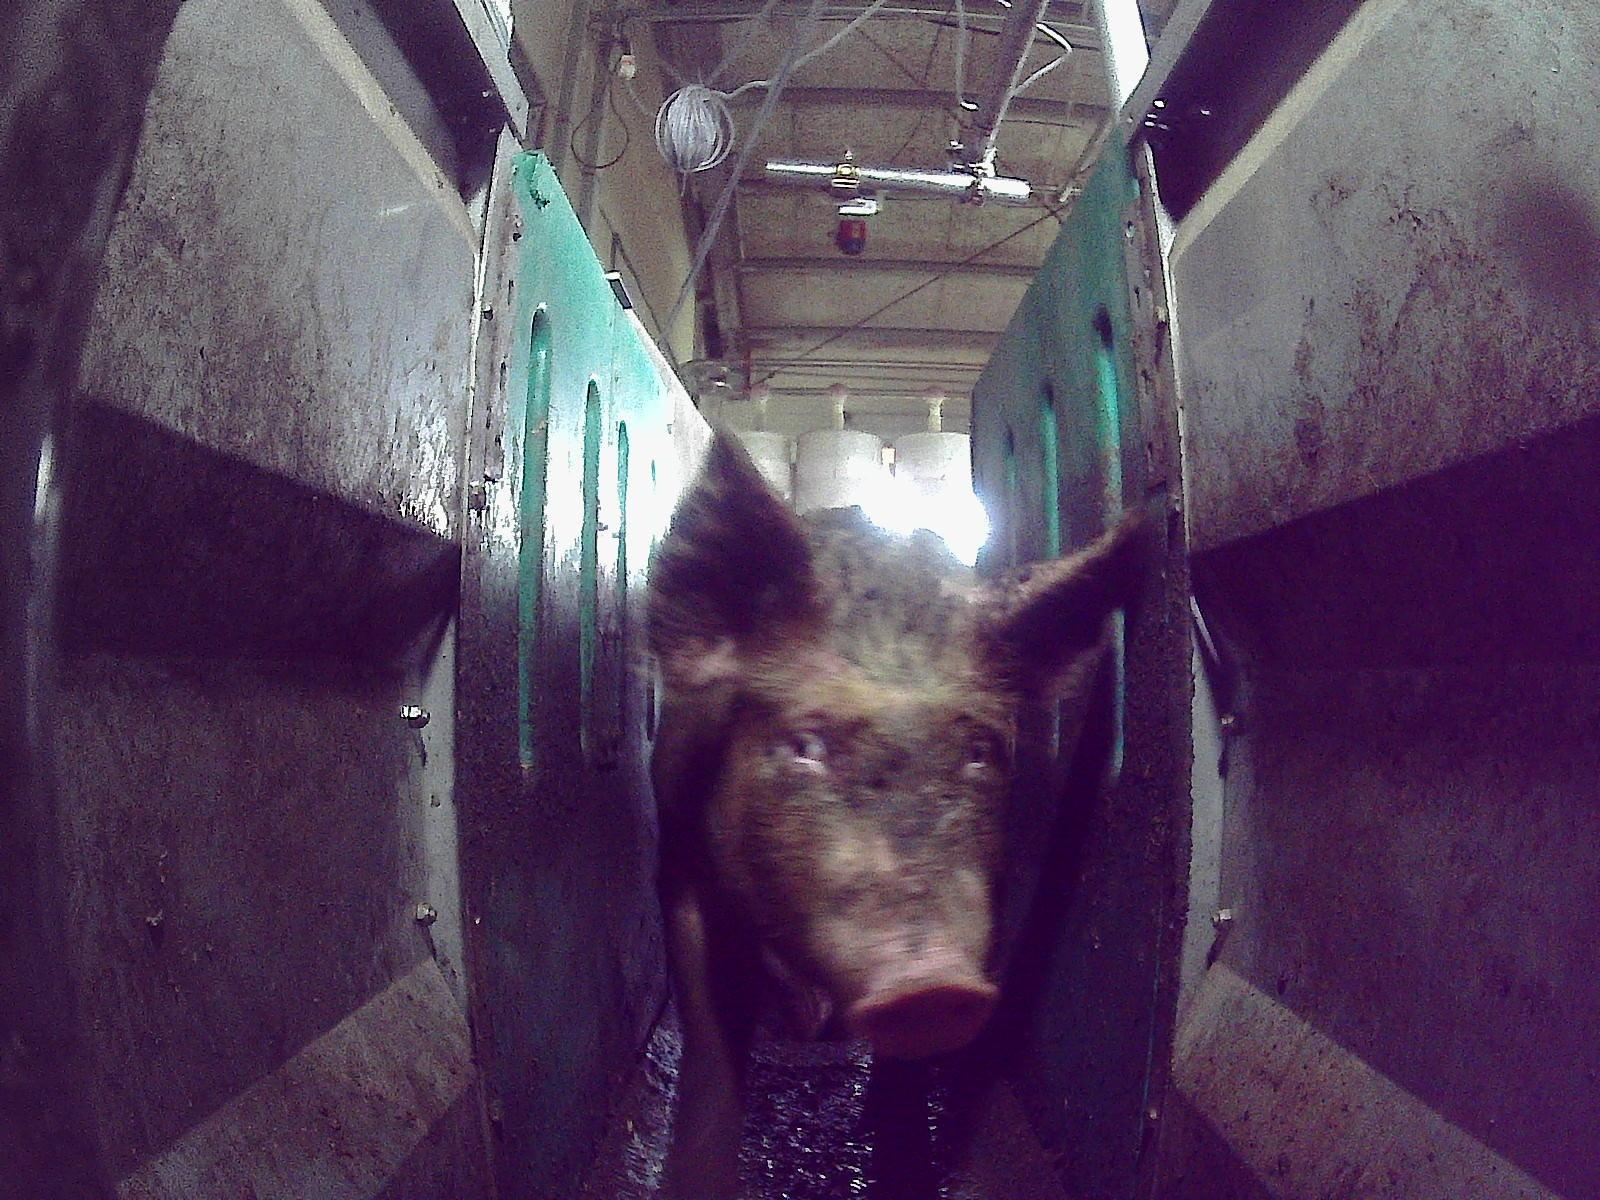Face: (731, 629, 1006, 1053)
